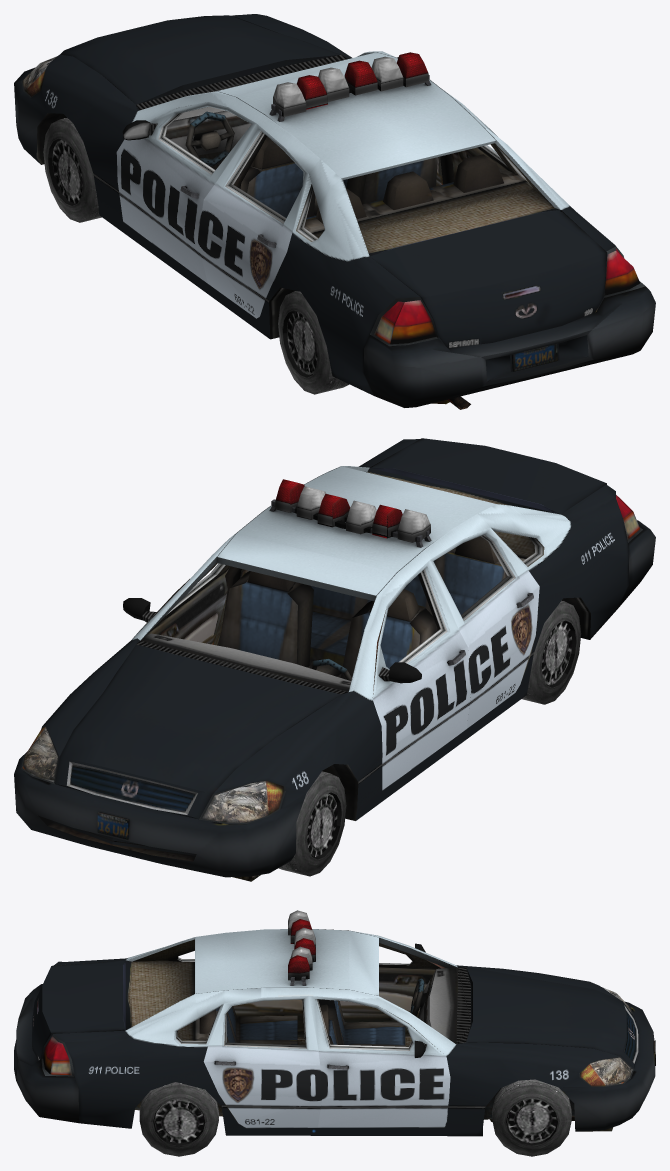
The model's file is Model_Cars_PoliceCar.fbx.
The picture shows the model from 3 angles, top to bottom: view 1: azimuth 30°, elevation 25°; view 2: azimuth 150°, elevation 25°; view 3: azimuth 270°, elevation 25°; orthographic projection. The views are drawn at different scales.
Parts seen in each view (by area): view 1: Car_Body, Trunk, Hood, FrontDoorLeft, RearDoorLeft, LF_Wheel, LB_Wheel, RearDoorRight; view 2: Car_Body, Hood, FrontDoorLeft, RearDoorLeft, Trunk, LF_Wheel, FrontDoorRight, LB_Wheel; view 3: Car_Body, FrontDoorRight, Hood, RearDoorRight, Trunk, RF_Wheel, RB_Wheel, FrontDoorLeft, RearDoorLeft.
Part boxes in pixels (left/top/right/bottom): Car_Body: left=14, top=14, right=655, bottom=409; Trunk: left=370, top=210, right=607, bottom=348; Hood: left=60, top=15, right=340, bottom=104; FrontDoorLeft: left=116, top=102, right=256, bottom=283; RearDoorLeft: left=198, top=123, right=308, bottom=318; LF_Wheel: left=43, top=118, right=101, bottom=222; LB_Wheel: left=278, top=291, right=349, bottom=394; RearDoorRight: left=452, top=143, right=517, bottom=179; Car_Body: left=14, top=439, right=655, bottom=881; Hood: left=55, top=644, right=340, bottom=819; FrontDoorLeft: left=372, top=560, right=471, bottom=790; RearDoorLeft: left=429, top=528, right=539, bottom=728; Trunk: left=370, top=438, right=606, bottom=514; LF_Wheel: left=278, top=771, right=346, bottom=876; FrontDoorRight: left=123, top=563, right=229, bottom=645; LB_Wheel: left=522, top=600, right=581, bottom=704; Car_Body: left=14, top=910, right=655, bottom=1136; FrontDoorRight: left=309, top=996, right=450, bottom=1127; Hood: left=466, top=967, right=638, bottom=1068; RearDoorRight: left=203, top=996, right=321, bottom=1127; Trunk: left=32, top=960, right=125, bottom=1060; RF_Wheel: left=492, top=1079, right=571, bottom=1156; RB_Wheel: left=139, top=1082, right=218, bottom=1156; FrontDoorLeft: left=340, top=943, right=445, bottom=1035; RearDoorLeft: left=233, top=999, right=304, bottom=1034.
Bounding box in the file's own units: 235 × 175 × 582.
